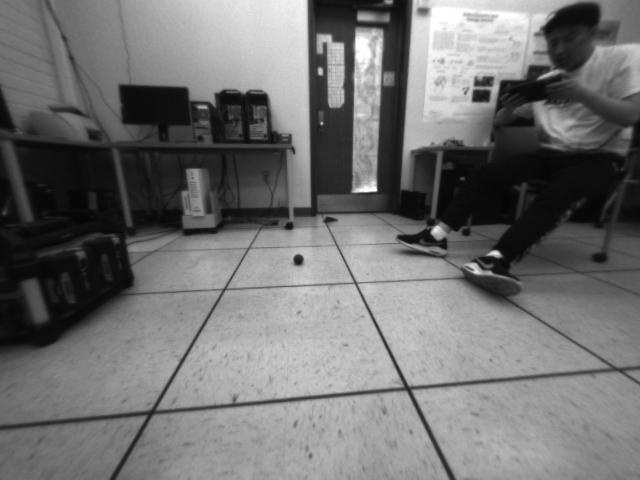dogtoy: (286, 248, 310, 271)
